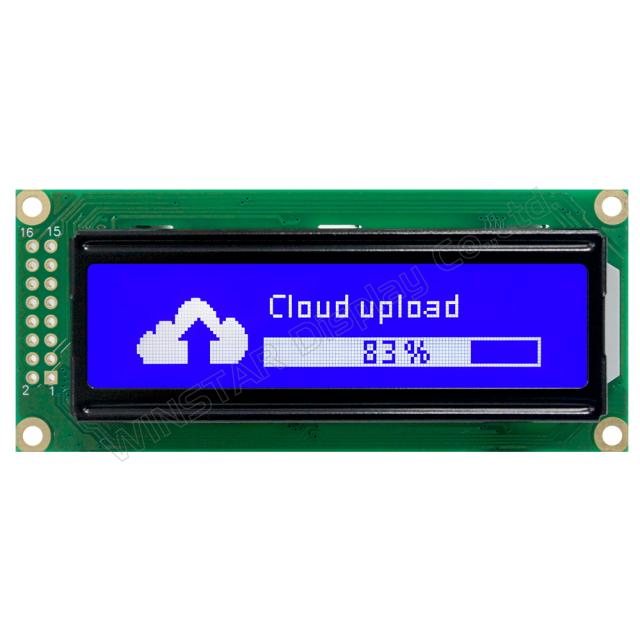Display: (5, 188, 631, 474)
